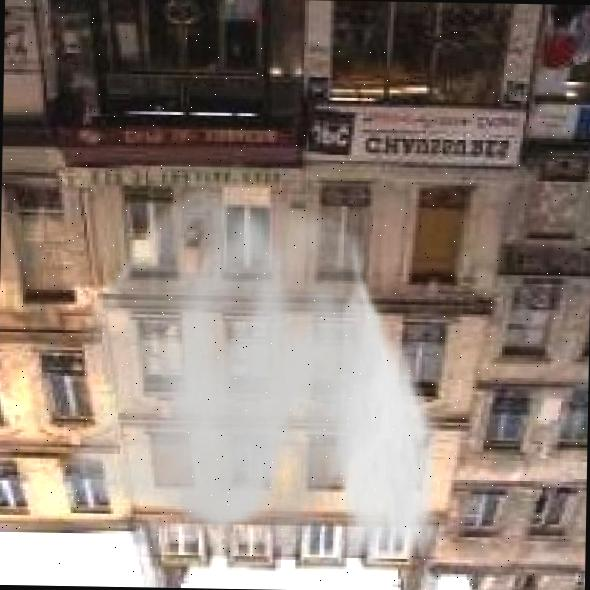smoke: (67, 176, 451, 580)
